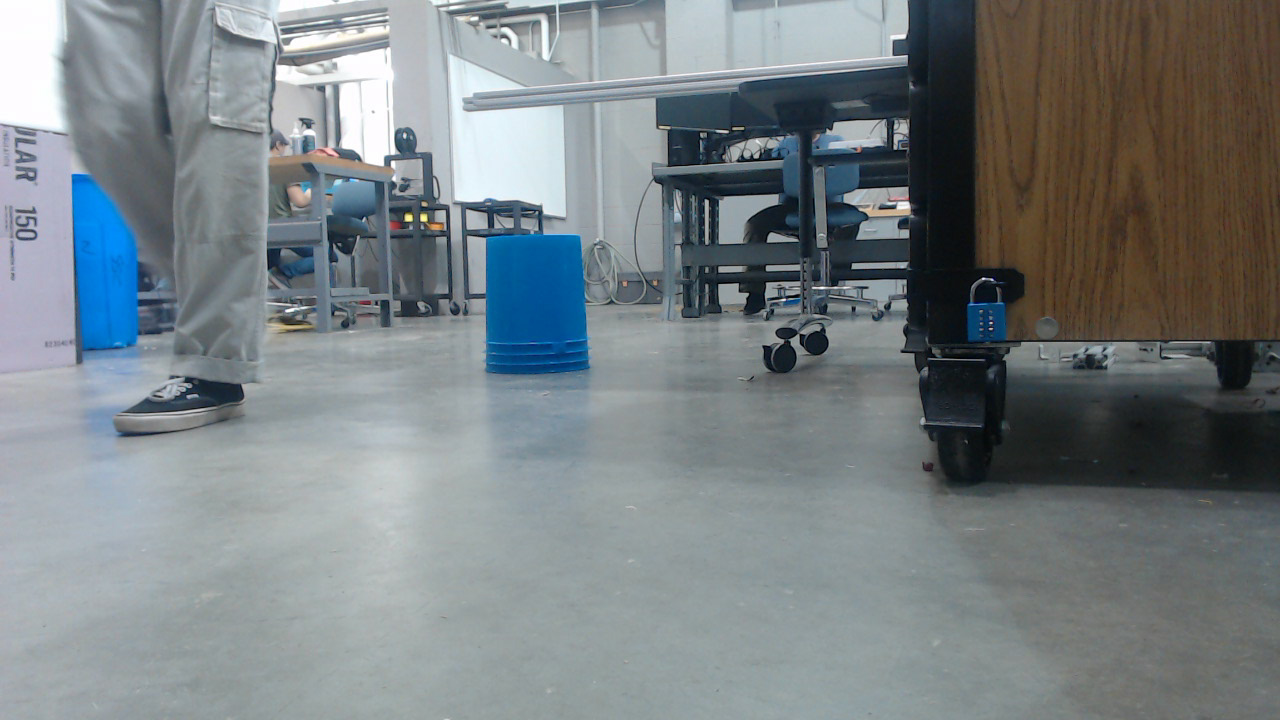blue_bucket: (486, 239, 597, 379)
